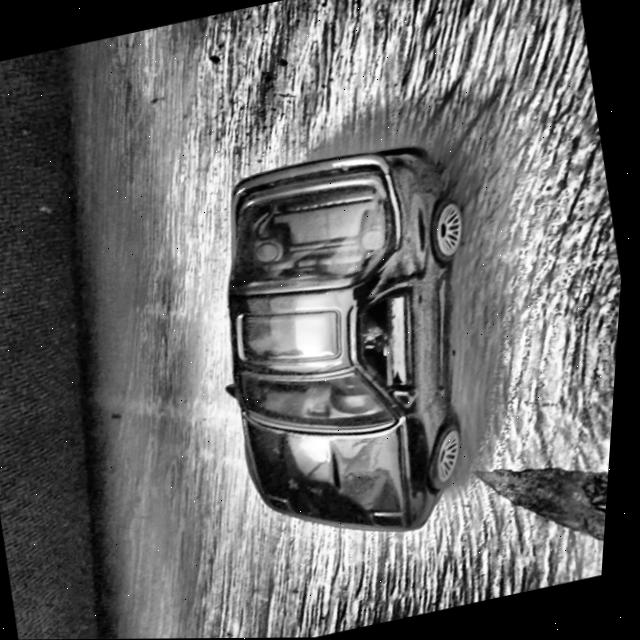car: (177, 128, 533, 565)
